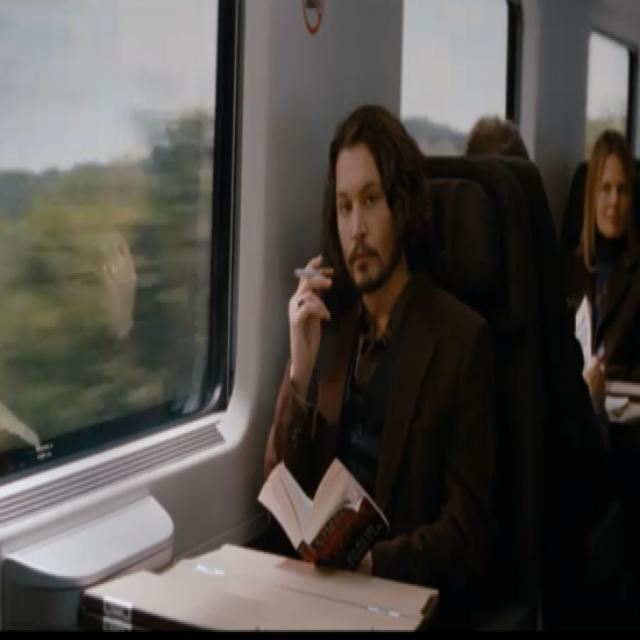smoke: (294, 265, 336, 278)
